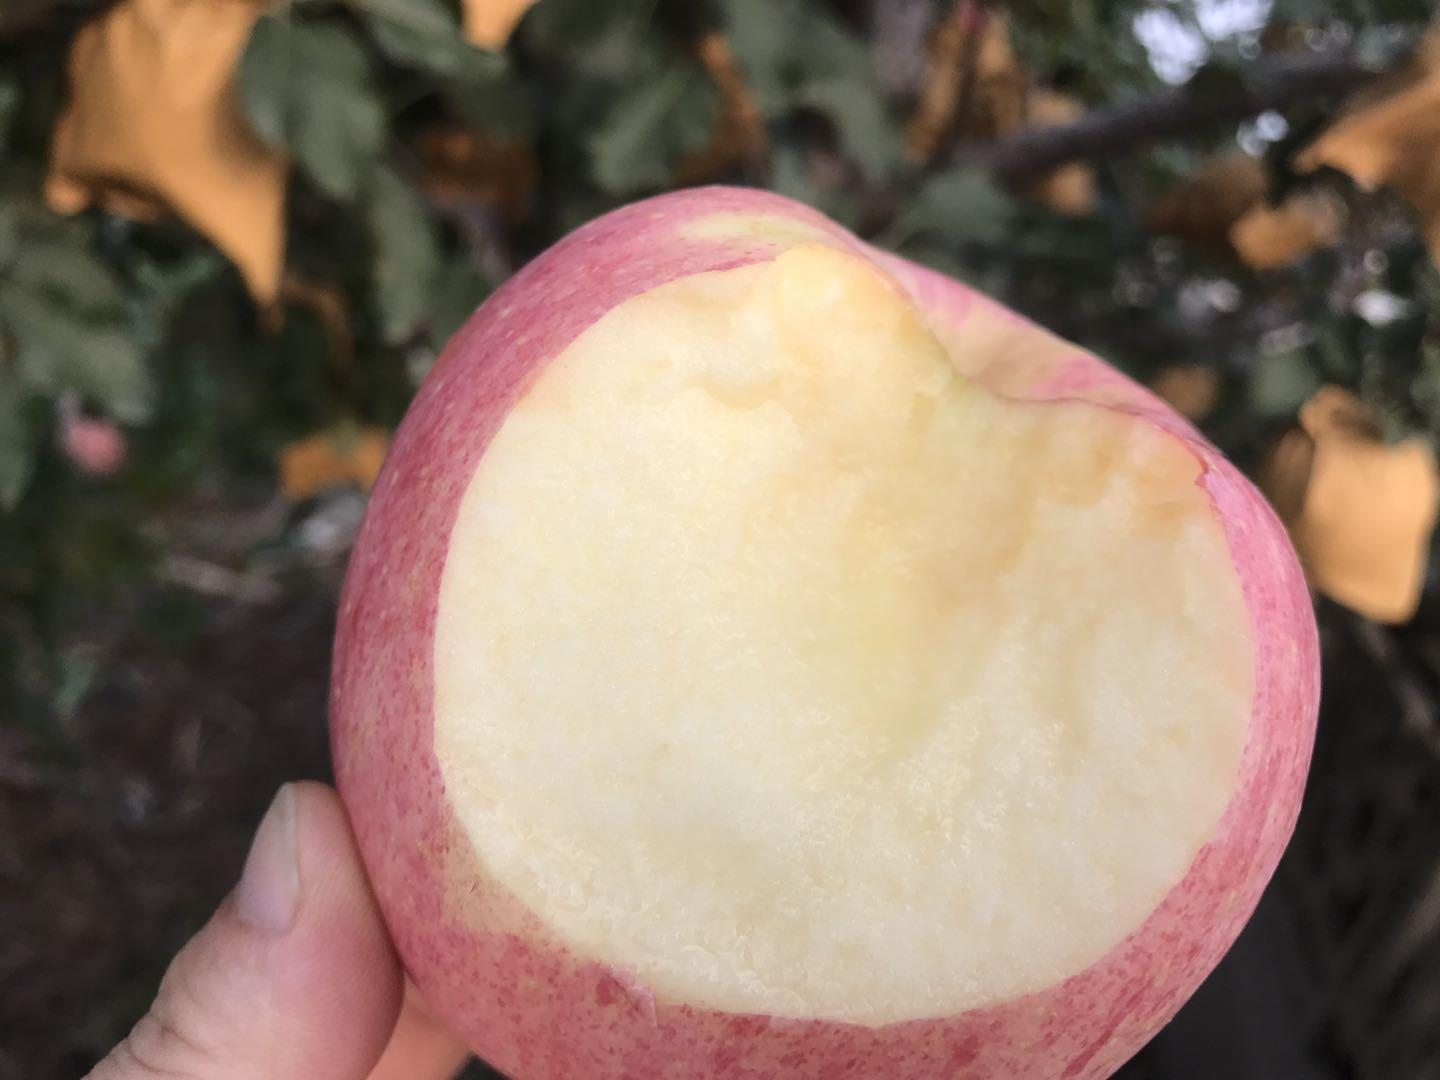apple: (330, 189, 1321, 1070)
